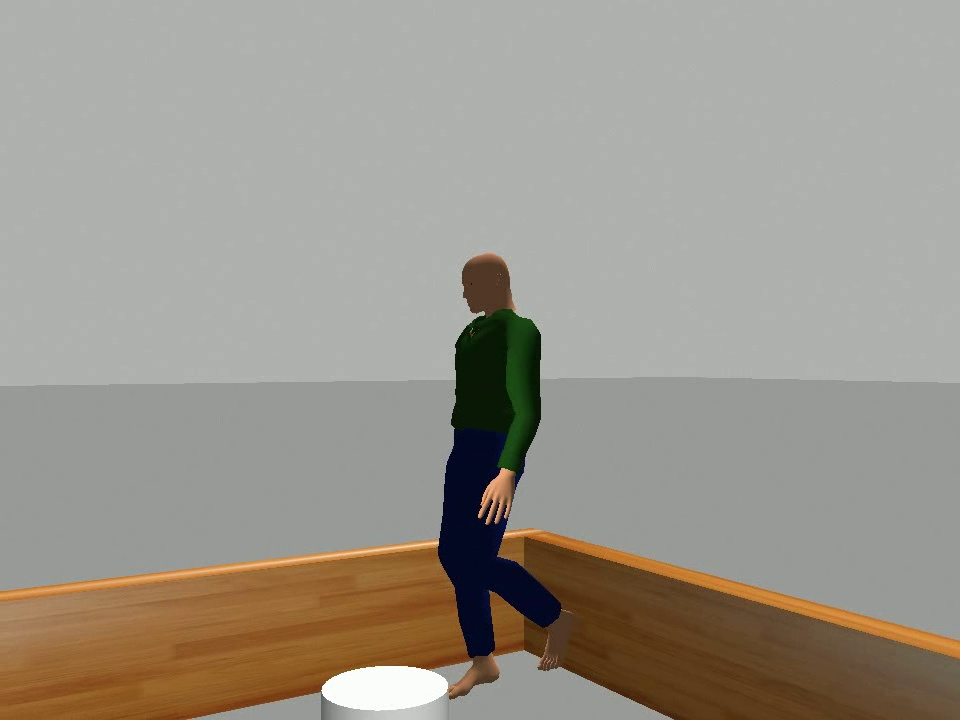person: (434, 252, 579, 702)
